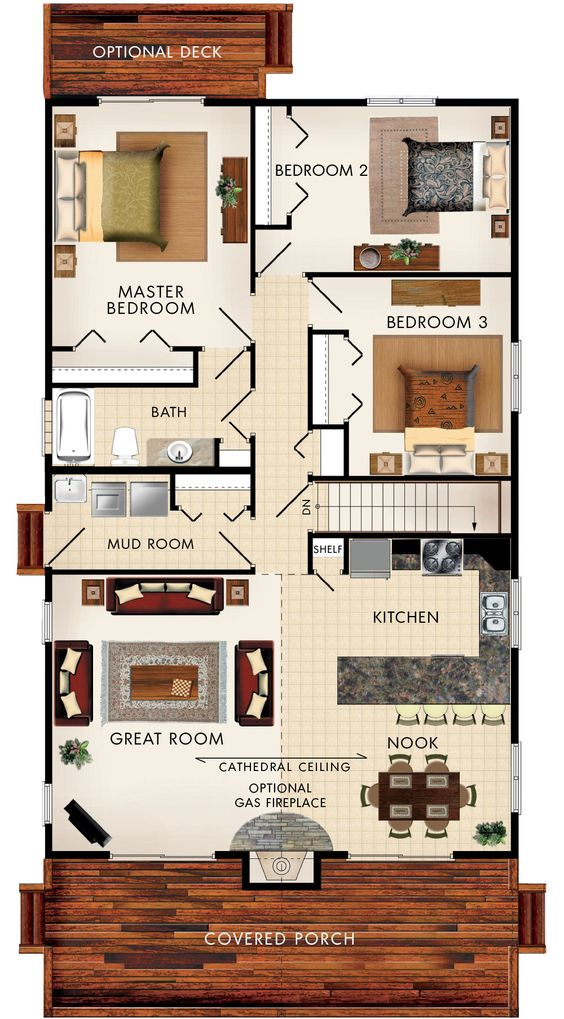room: (43, 566, 523, 859), (306, 528, 520, 860), (45, 95, 256, 352), (247, 95, 520, 276), (302, 270, 520, 481), (40, 464, 256, 575), (42, 379, 256, 472), (42, 327, 198, 387), (248, 95, 313, 230), (306, 326, 365, 431), (168, 466, 256, 525), (240, 848, 321, 890)
